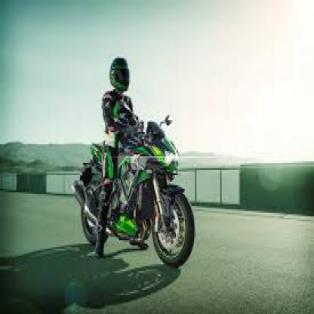Motocicleta: (73, 115, 198, 266)
